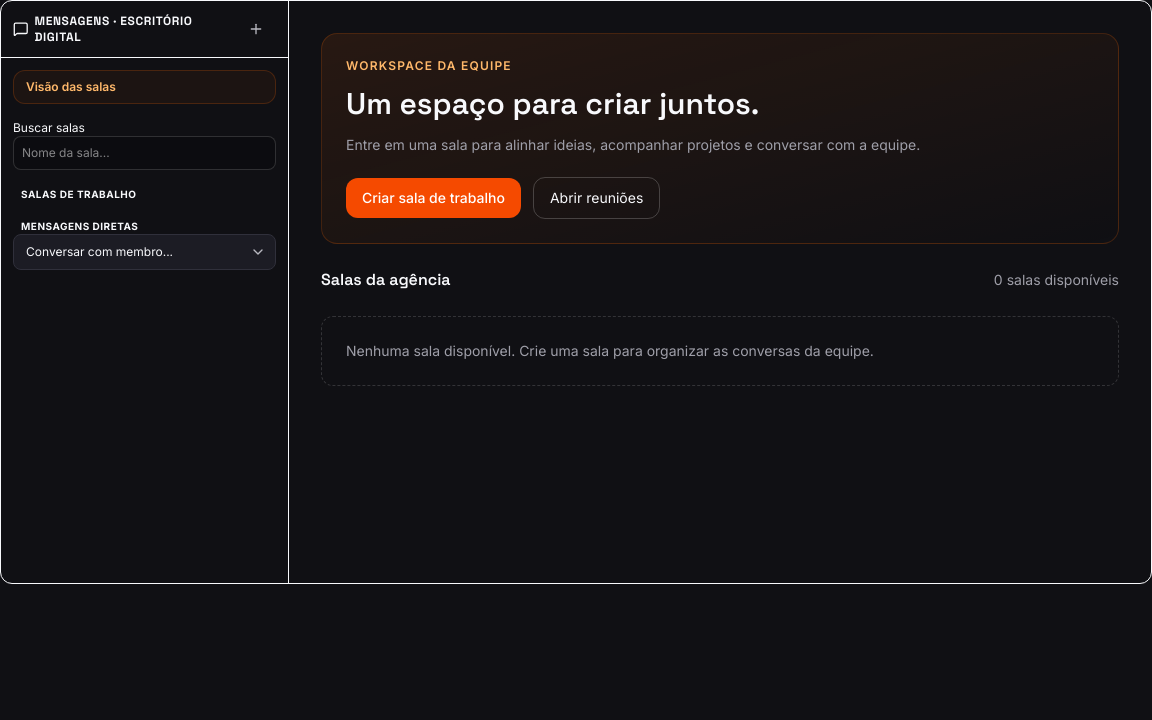
it: Chat selectors › shows backend error and retains member selection to retry
Select "Designer" in the dropdown named "Iniciar mensagem direta": x=144, y=252 [13,234,276,270]
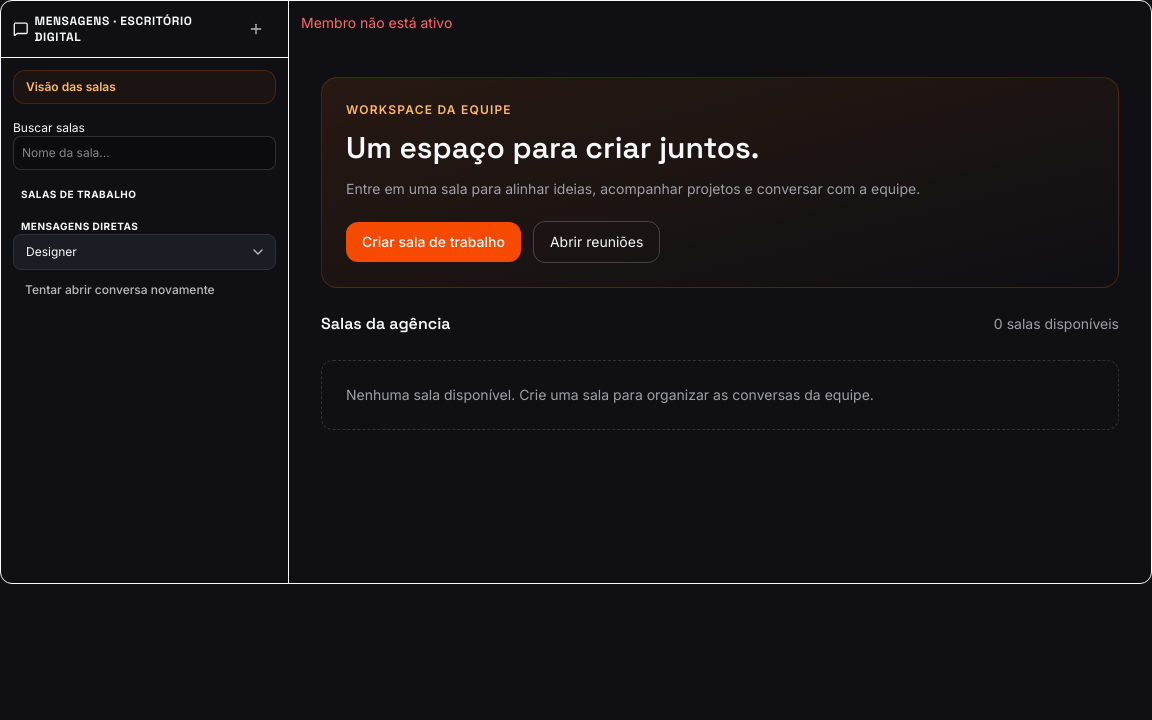
Expected: the message reads "Membro não está ativo", [301,14,452,31]
Expected: the button "Tentar abrir conversa novamente" is enabled, [13,274,227,306]
